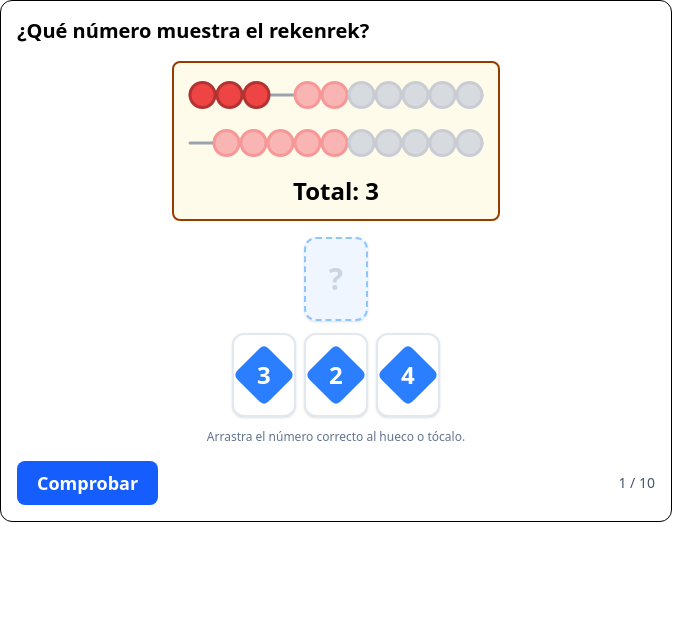
Test: ExerciseRunner › identify con opciones: chips con números completos y flujo drag correcto
This screenshot has width=689, height=631.
Press the mouse on the element with test id "answer-chip" at {"x": 264, "y": 375}, box [232, 333, 296, 417]
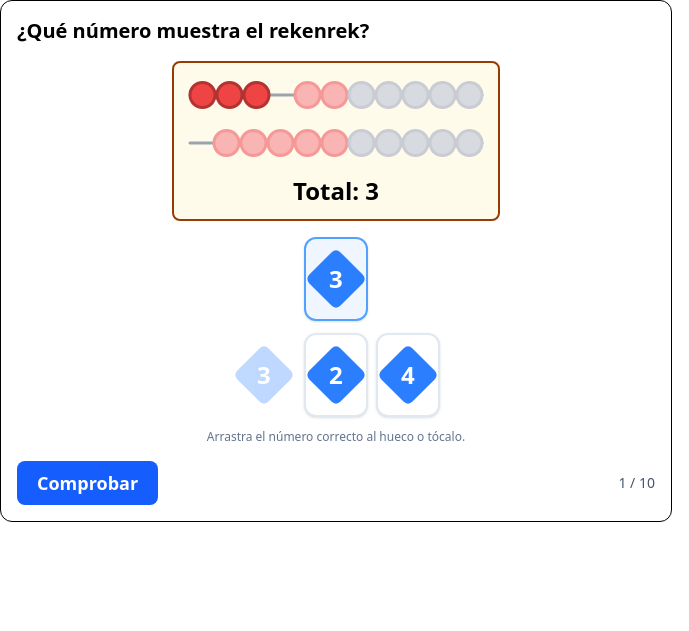
Now the 1st element showing "3" is shown, box [304, 237, 368, 321]
Click the button "Comprobar" at {"x": 88, "y": 483}, box [17, 461, 158, 505]
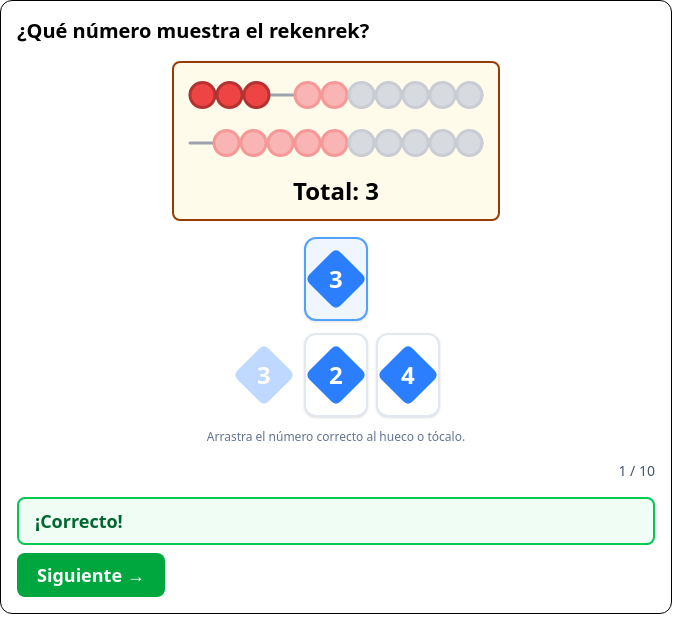
Now the message "¡Correcto!" is shown, box [17, 497, 655, 545]
